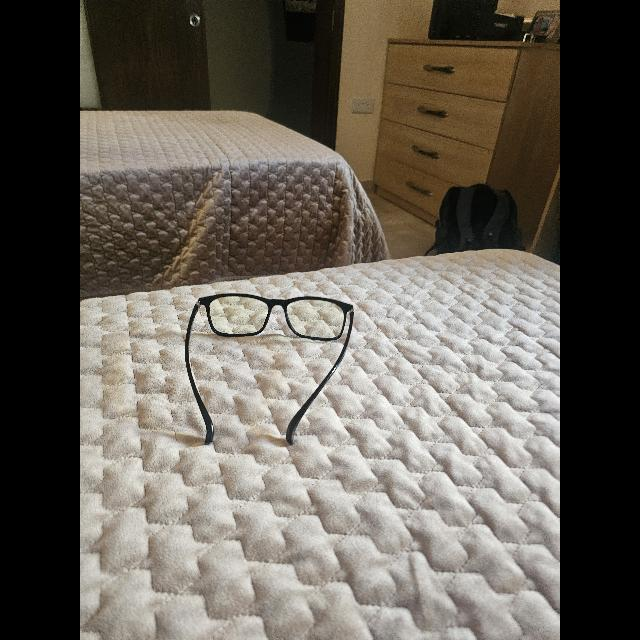glasses: (184, 294, 353, 444)
